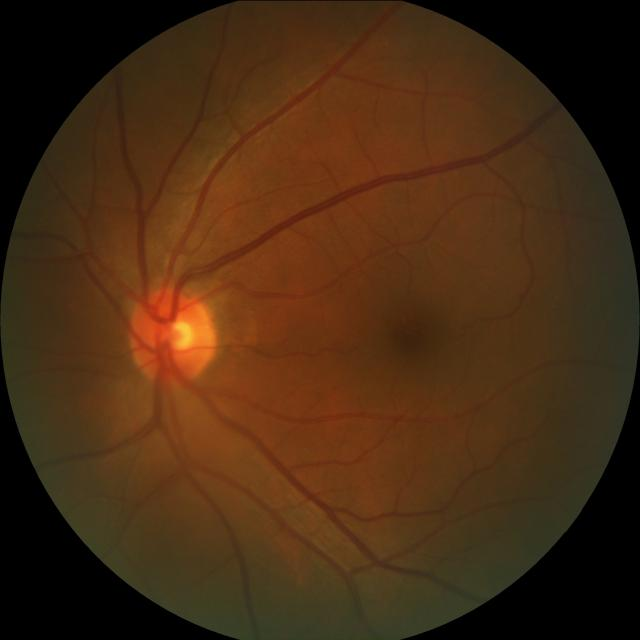OC: (158, 316, 194, 354)
OD: (125, 285, 214, 383)
